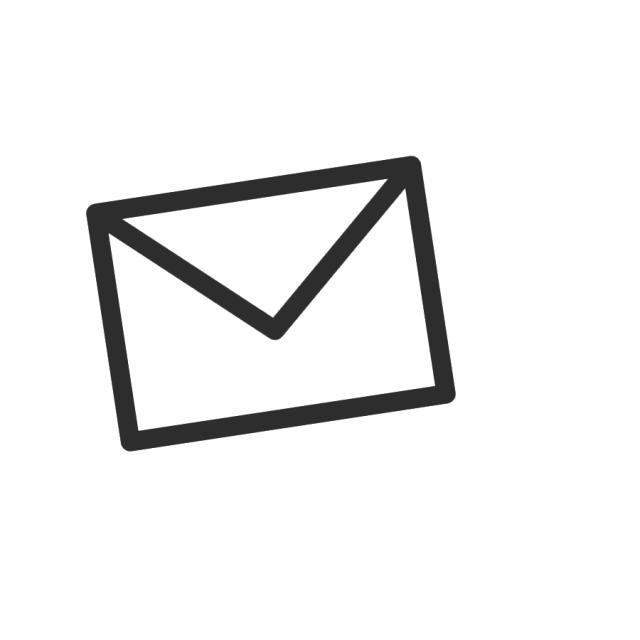letter: (82, 153, 458, 459)
